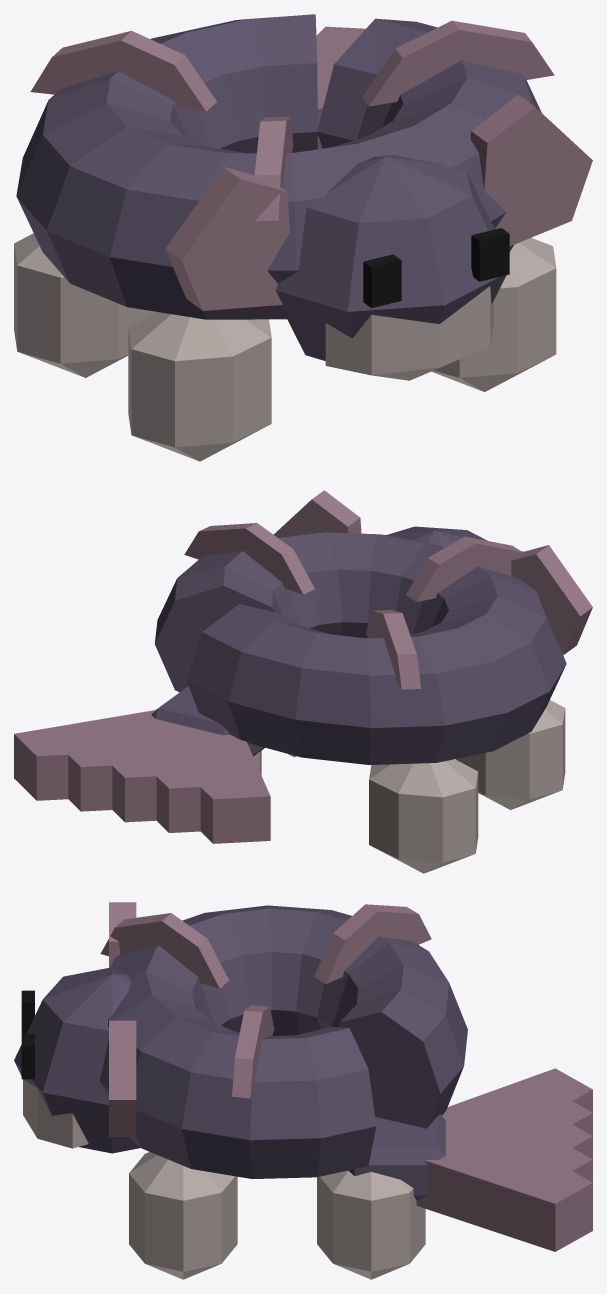
File: duskcurl.glb
3 renders of one model, top to bottom at view 1: azimuth 30°, elevation 25°; view 2: azimuth 150°, elevation 25°; view 3: azimuth 270°, elevation 25°, orthographic. The views are drawn at different scales.
Parts seen in each view (by area): view 1: Duskcurl; view 2: Duskcurl; view 3: Duskcurl.
Boxes of the visible parts, x1,y1,x2,y2 form: Duskcurl: [14, 14, 592, 461]; Duskcurl: [14, 490, 592, 873]; Duskcurl: [14, 902, 592, 1279].
Bounding box in the file's own units: 0.8 × 0.48 × 0.92.
